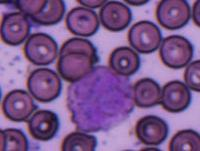E: (66, 66, 134, 132)
